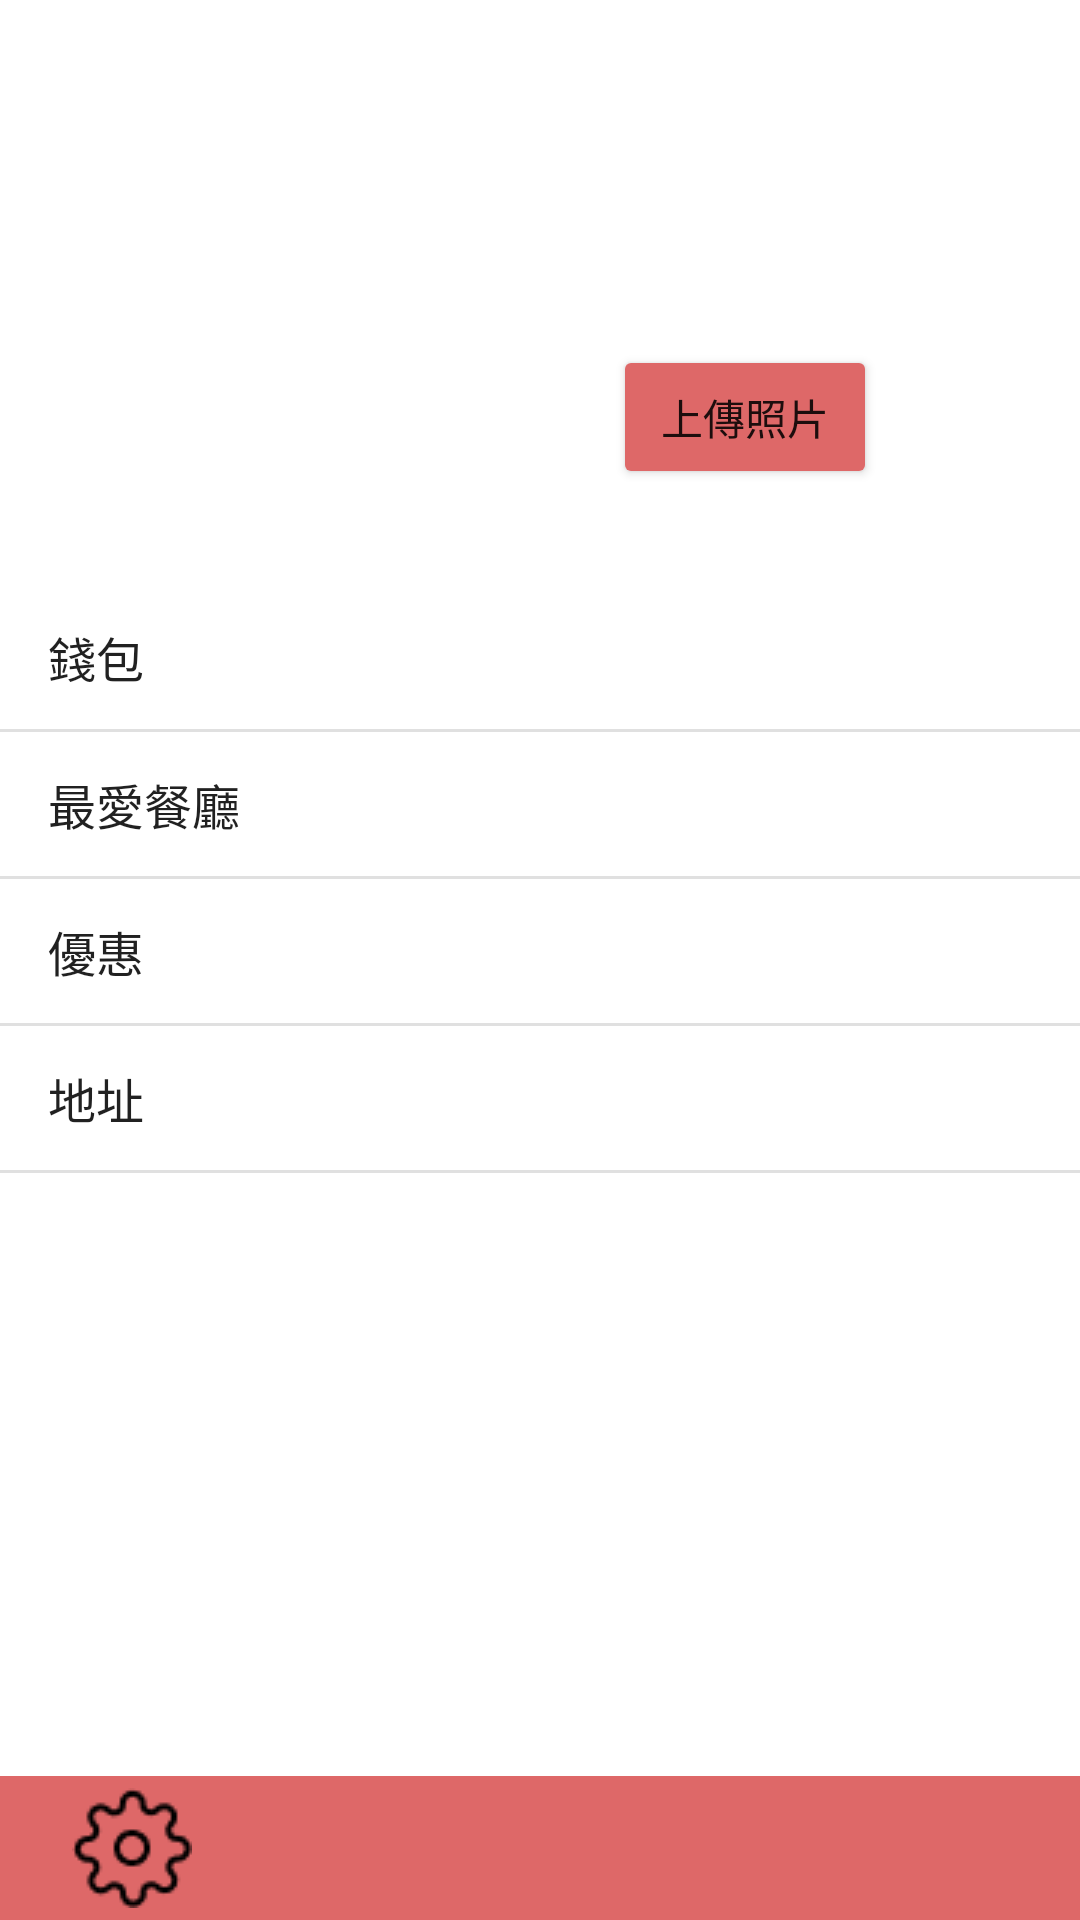

Screen size 1080x1920. Icon name, then its center in pixels as (x=x, y=y):
settings: (x=132, y=1849)
